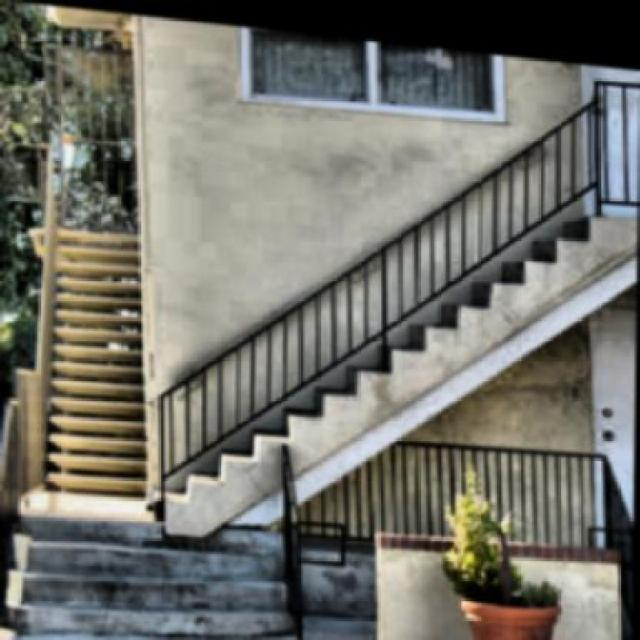stair: (34, 217, 158, 498)
